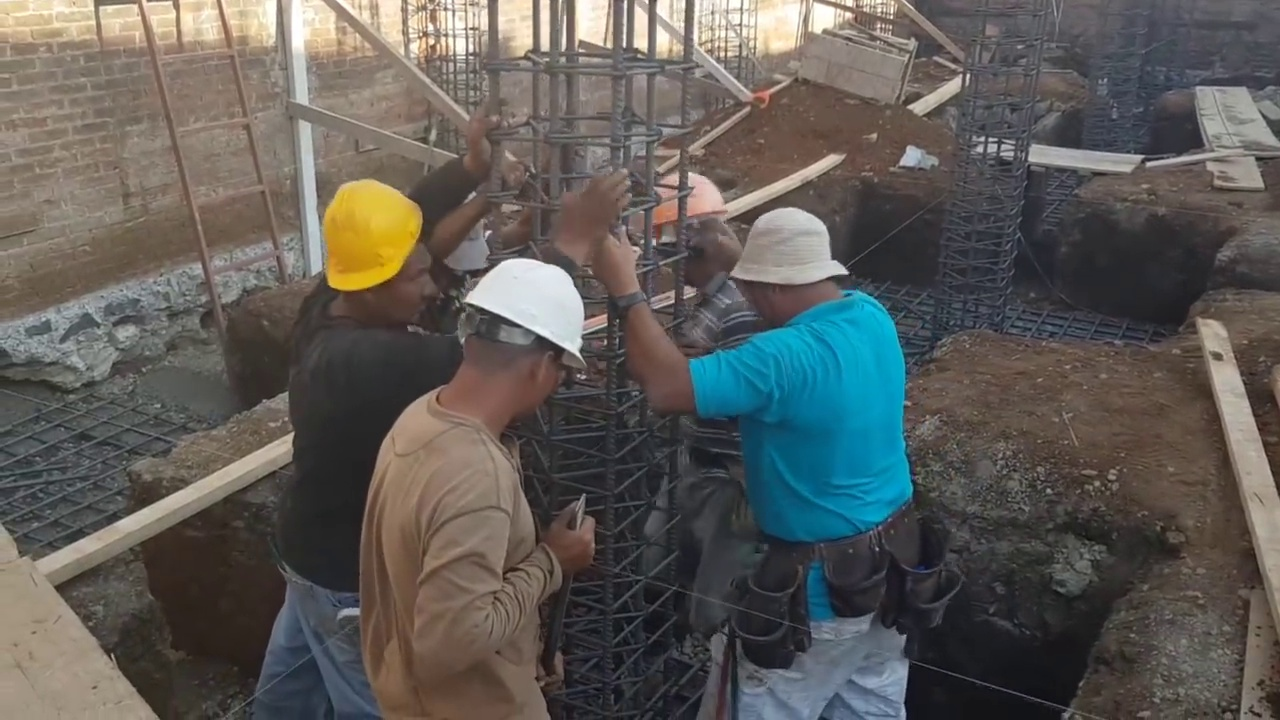helmet: (462, 260, 586, 373), (316, 182, 422, 294), (649, 170, 727, 228)
helmet-off: (730, 210, 853, 331)
helmet-on: (440, 254, 586, 422), (316, 182, 429, 331), (649, 170, 729, 292)
person: (588, 210, 915, 720), (252, 98, 503, 720), (362, 256, 588, 720), (640, 162, 771, 644)
